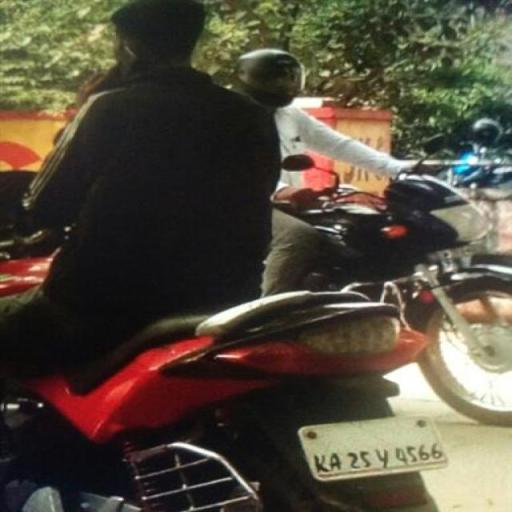using mobile: (94, 36, 152, 98)
